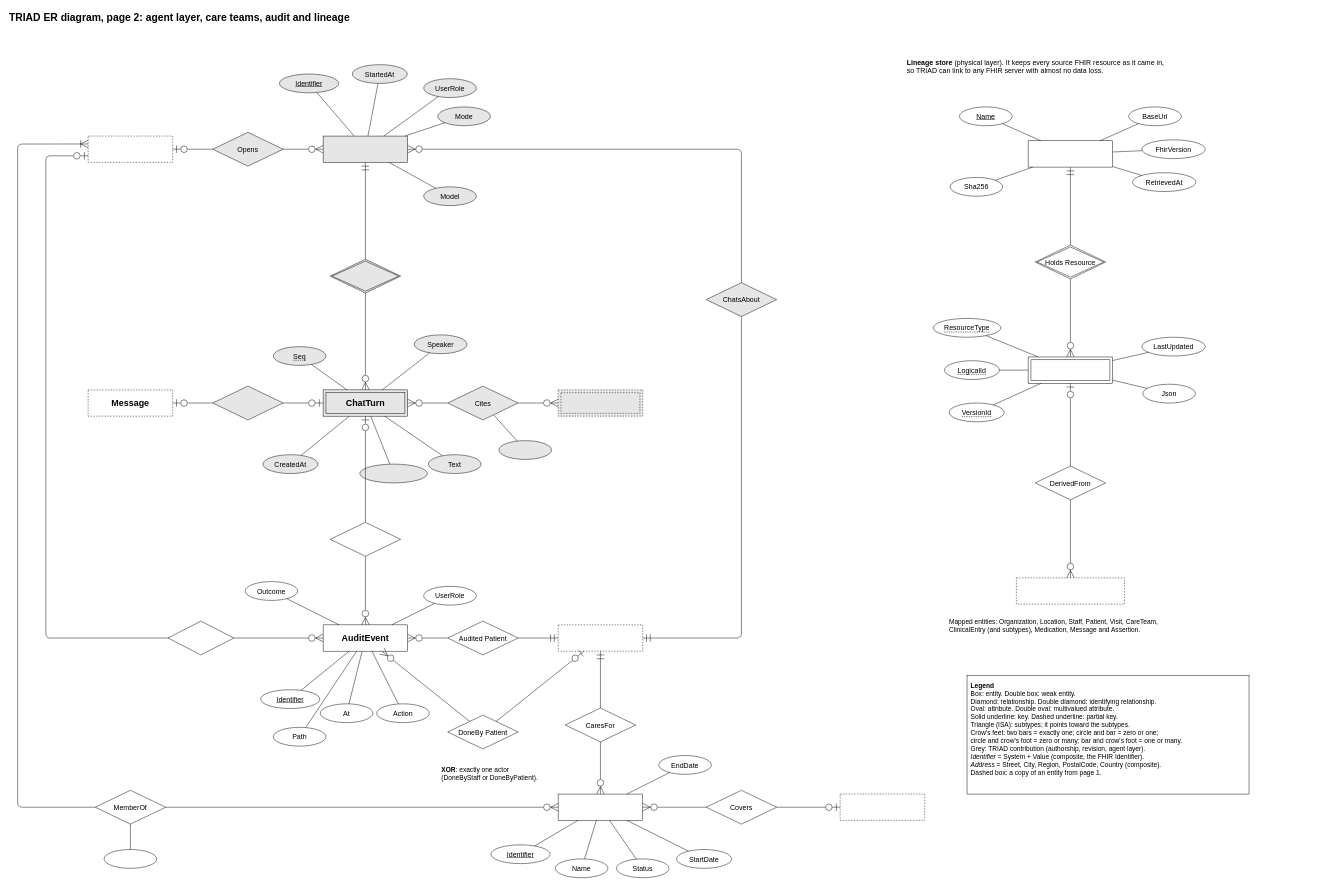
Some shapes in this 1341 by 886 pixel diagram are drawn without their labels. The shapes that lost their labels are listed below. From the top down, each one's box as (x1, y1, x2, y2) in pixels, then its label:
(88, 136, 173, 162): Staff
(323, 136, 408, 162): ChatSession
(1028, 140, 1113, 167): FhirSource
(330, 259, 401, 293): Includes
(1028, 356, 1113, 383): FhirResource
(212, 386, 283, 420): Yields
(558, 389, 643, 416): Assertion
(498, 440, 552, 459): Rank
(359, 464, 427, 483): ClientTurnId
(330, 522, 401, 556): InTurn
(1016, 577, 1124, 604): Any mapped entity
(168, 621, 234, 655): DoneBy Staff
(558, 624, 643, 651): Patient
(558, 794, 643, 820): CareTeam
(840, 794, 925, 820): Visit
(104, 849, 157, 868): Role
